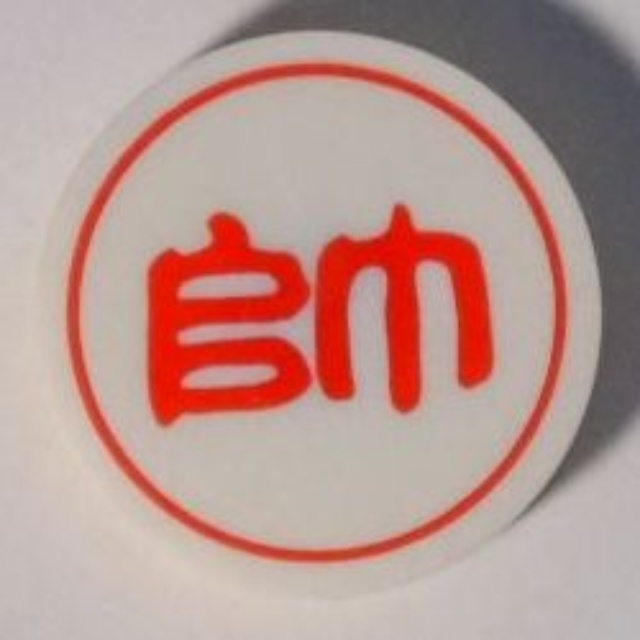red_tuong: (32, 24, 622, 577)
